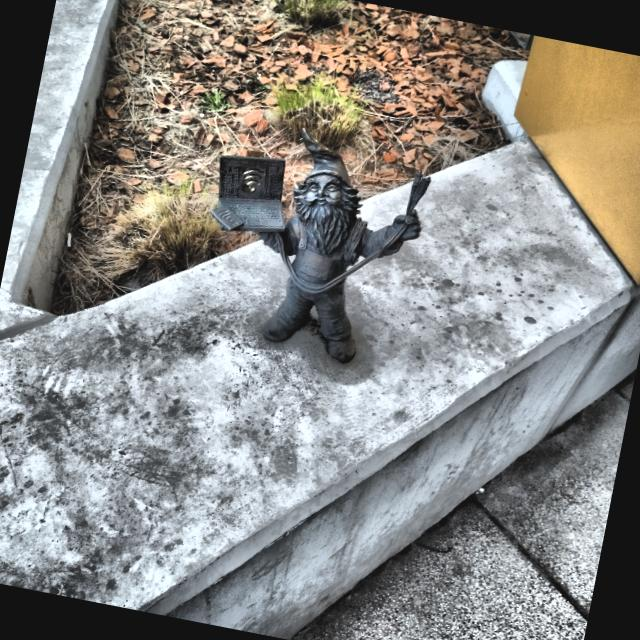Krasnal_Teleclaw: (211, 131, 430, 363)
